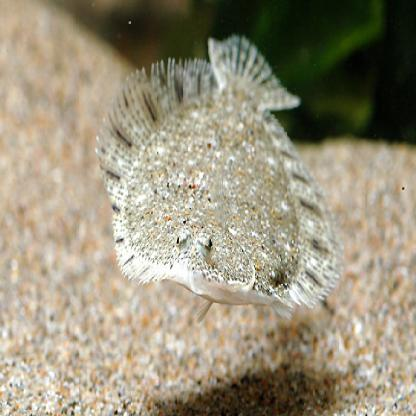flounder: (92, 28, 345, 329)
